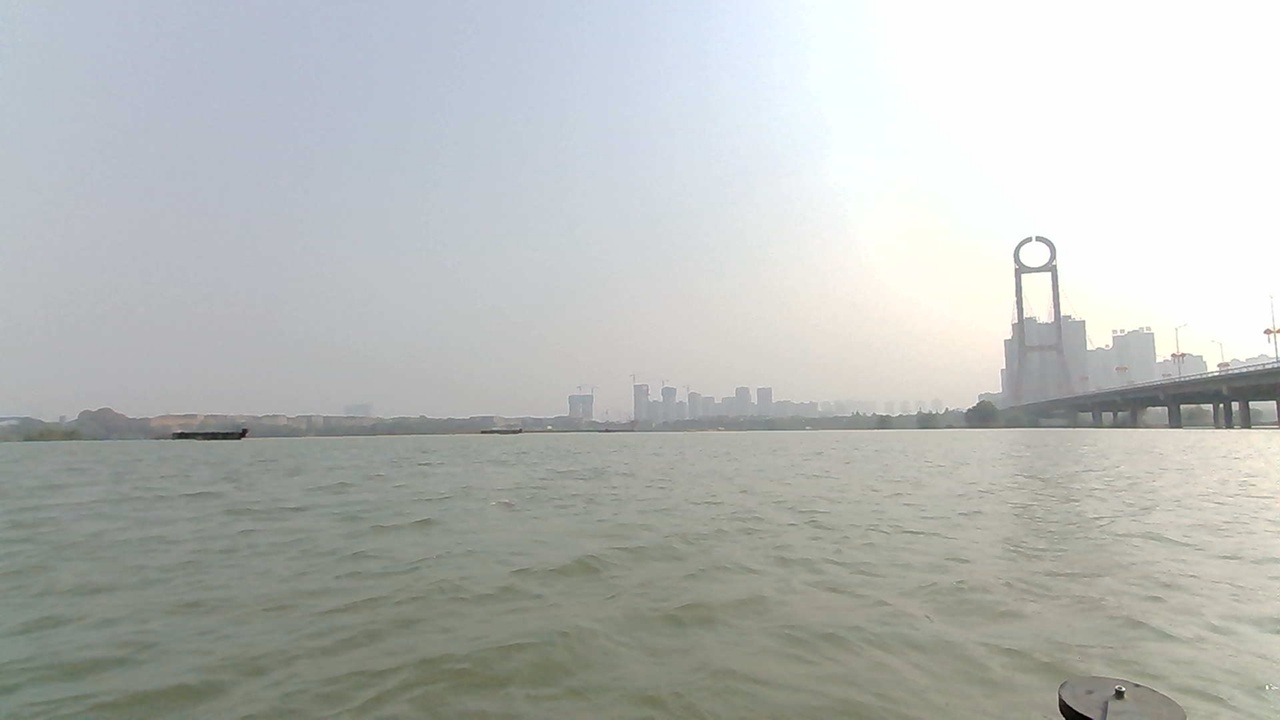bottle: (478, 495, 531, 518)
